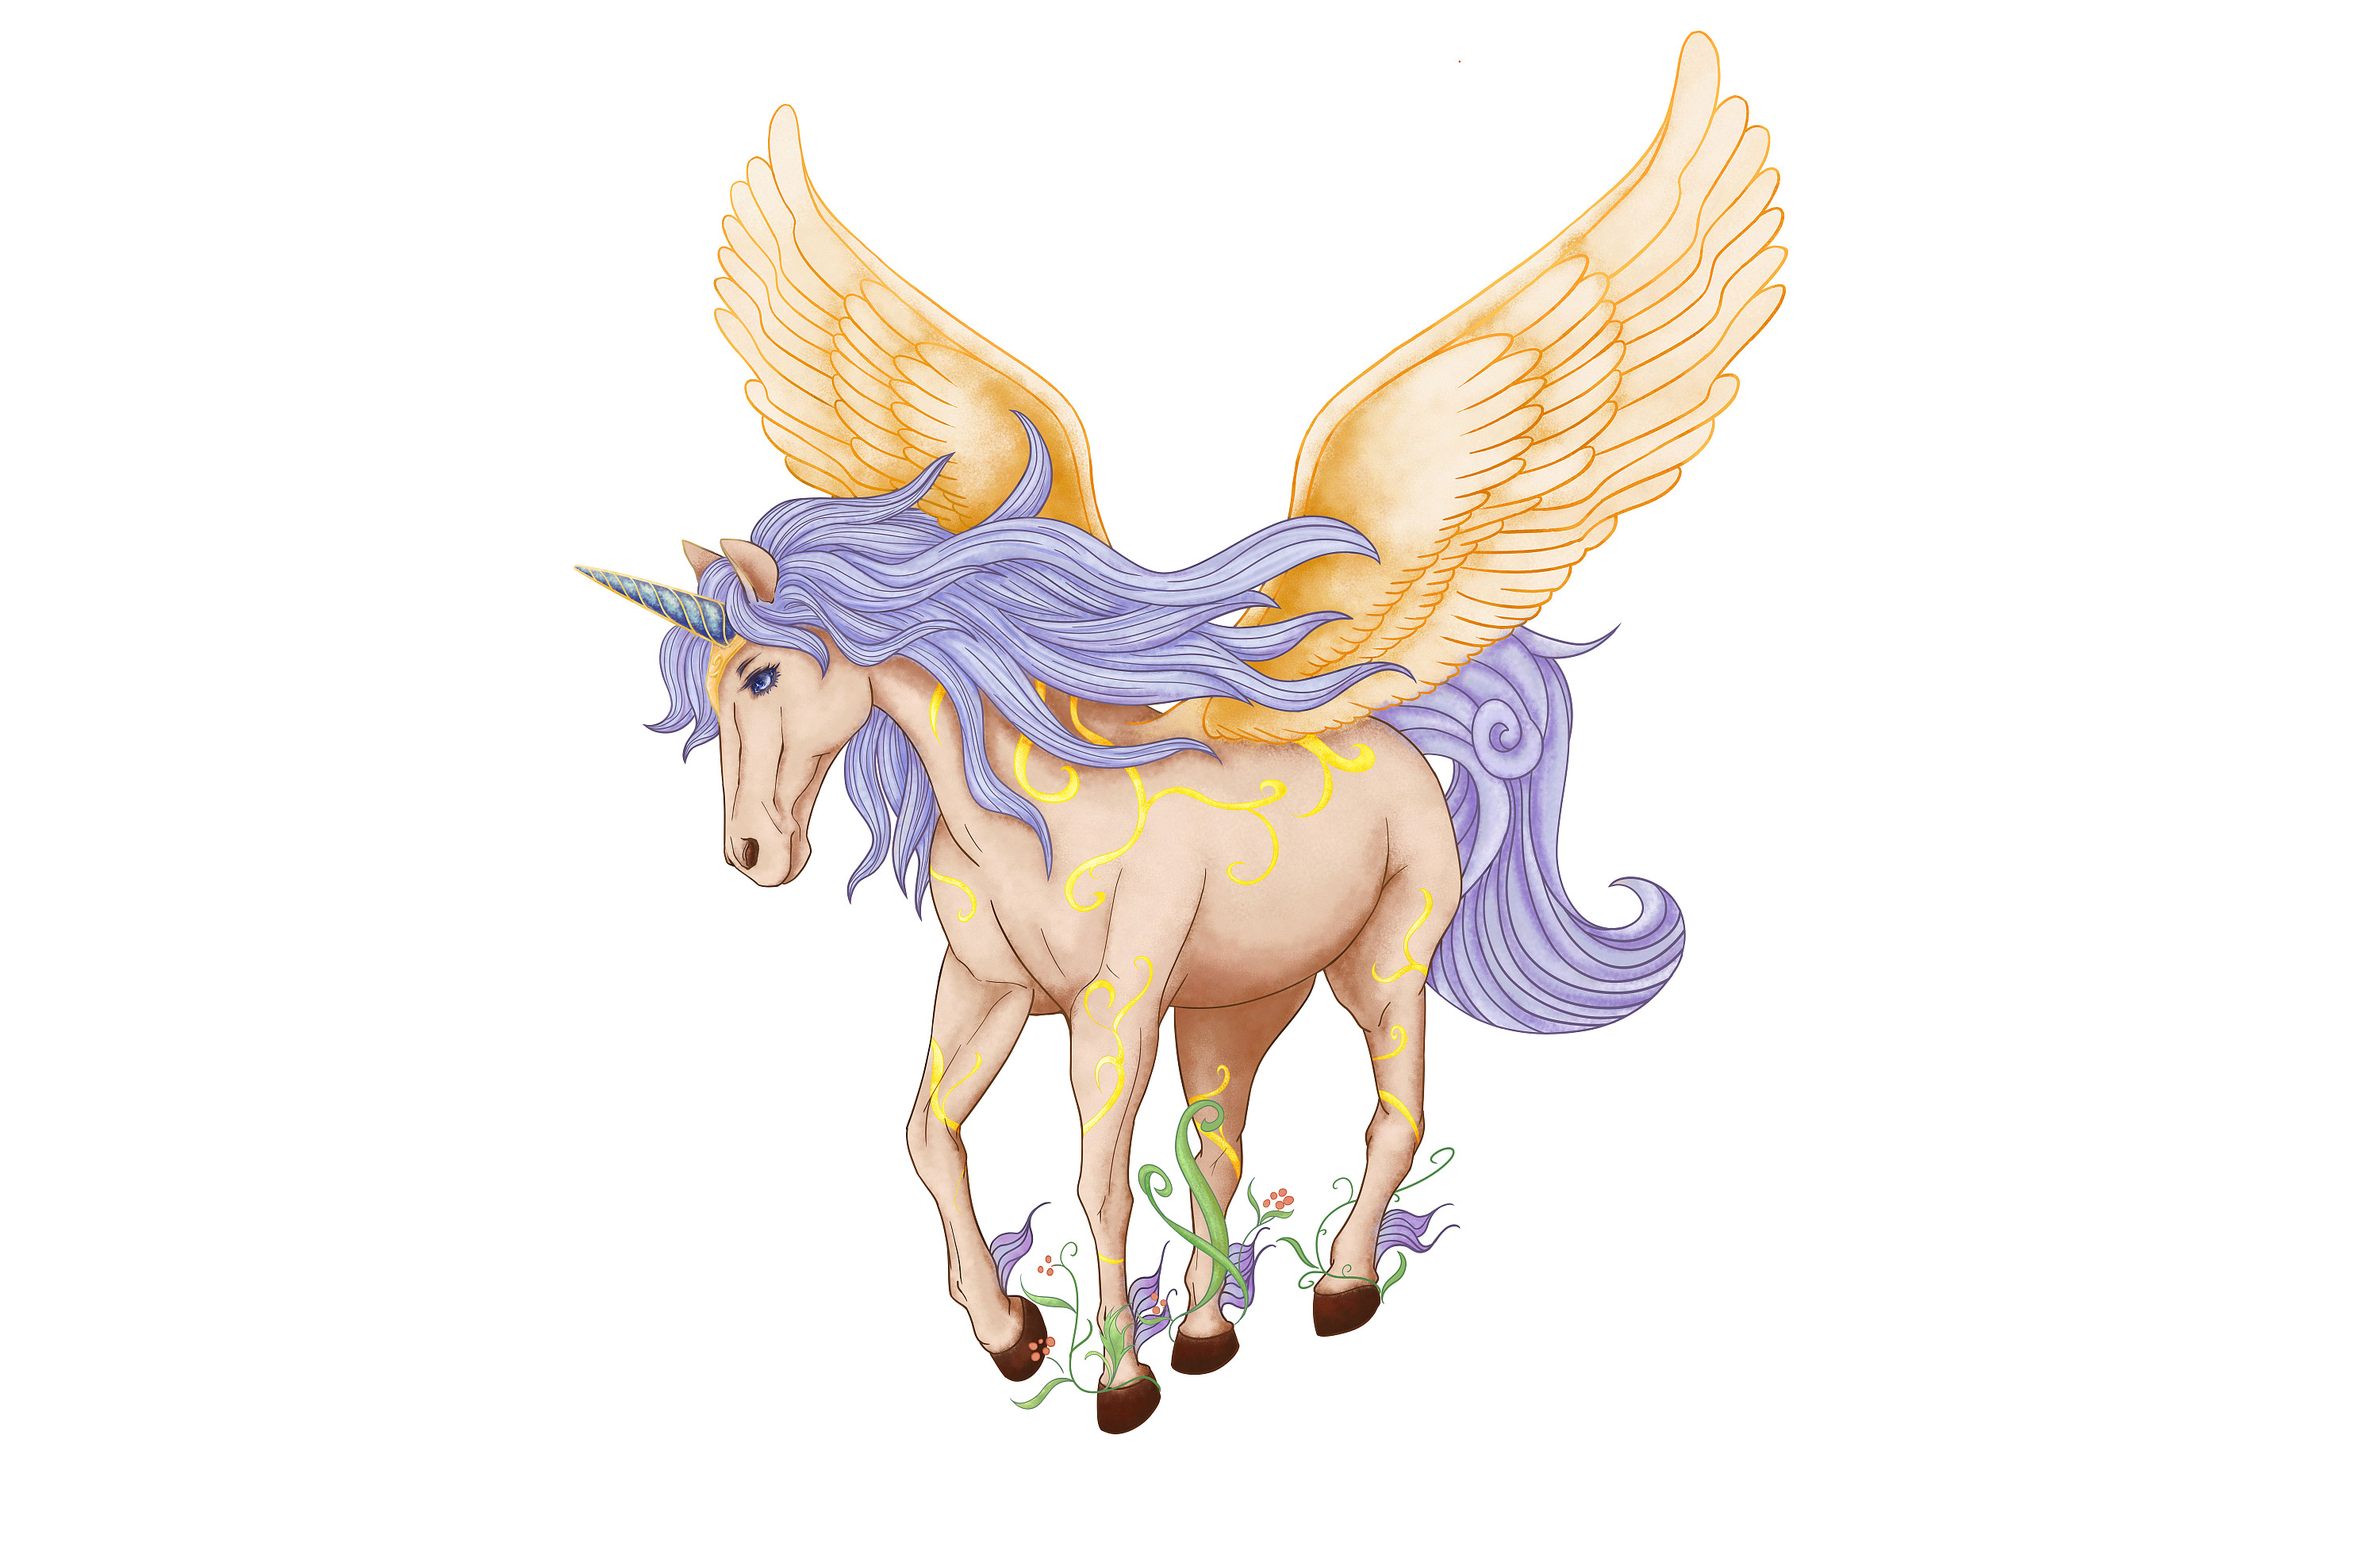background: (539, 9, 1813, 1460)
